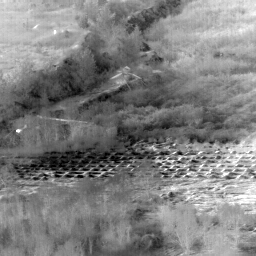aircraft: (18, 130, 20, 132)
